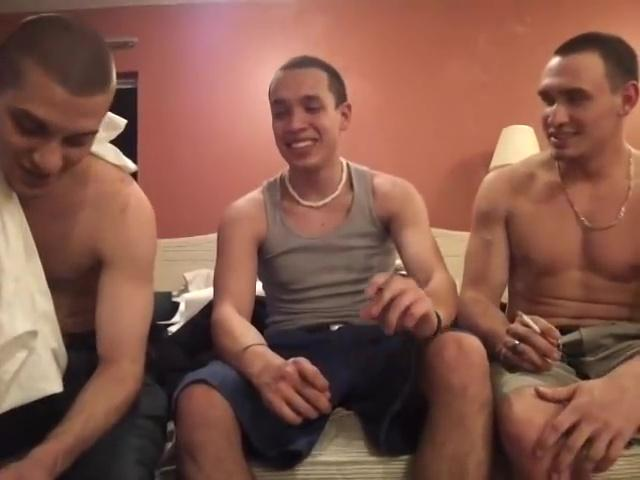cigarette: (518, 310, 547, 339), (378, 268, 402, 295)
